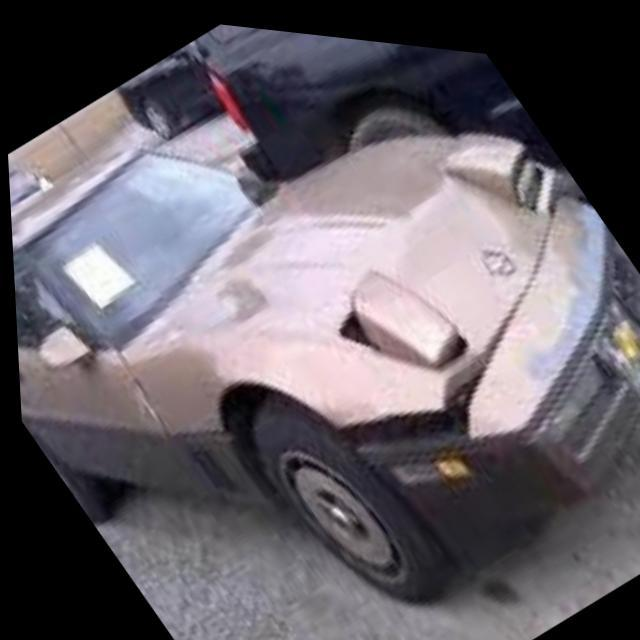dent: (526, 192, 614, 378)
dislocated part: (342, 313, 493, 457)
